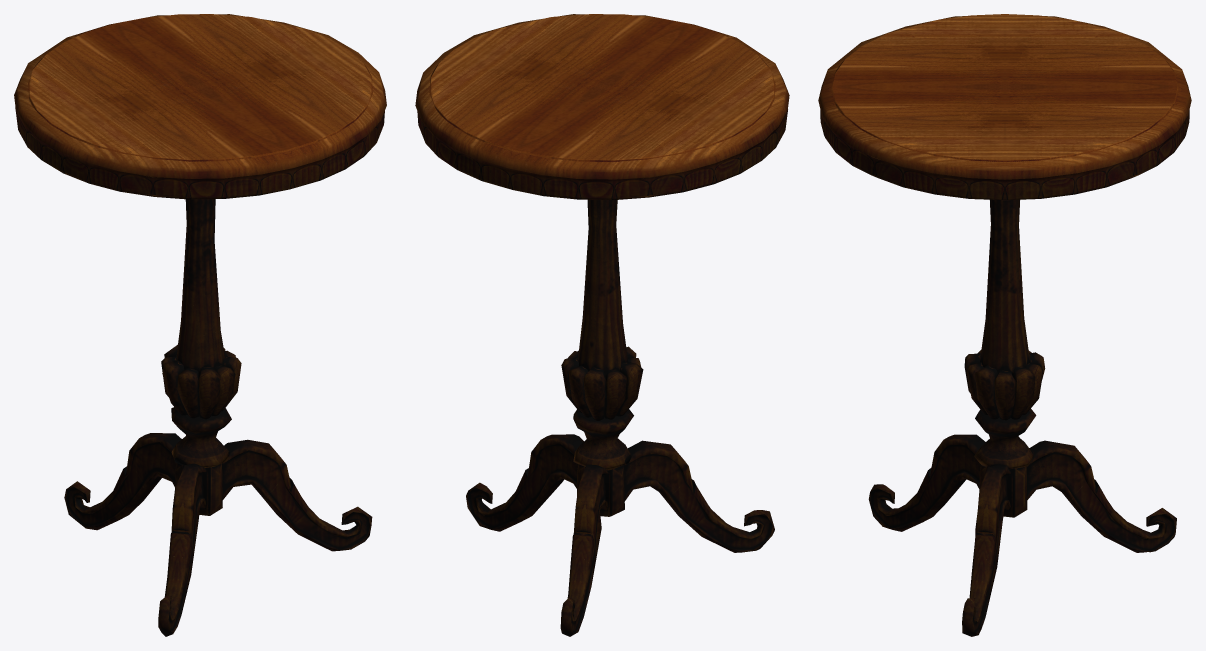
File: SM_Sehpa.FBX
The picture shows the model from 3 angles, left to right: view 1: azimuth 30°, elevation 25°; view 2: azimuth 150°, elevation 25°; view 3: azimuth 270°, elevation 25°; orthographic projection.
Parts seen in each view (by area): view 1: SM_Sehpa; view 2: SM_Sehpa; view 3: SM_Sehpa.
Boxes of the visible parts, x1,y1,x2,y2 form: SM_Sehpa: [14, 14, 386, 636]; SM_Sehpa: [415, 14, 789, 636]; SM_Sehpa: [818, 14, 1191, 636].
Bounding box in the file's own units: 56.31 × 56.15 × 80.49.
